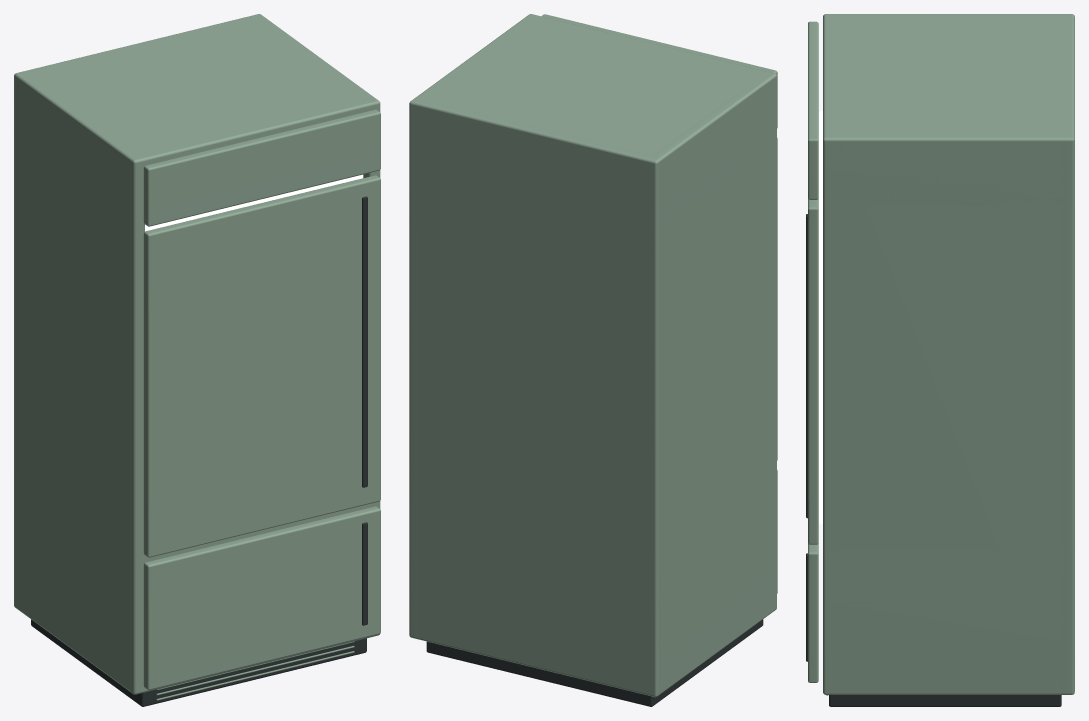
File: kitchenModernFridgeSage.glb
3 views of the same model, side by side, from view 1: azimuth 30°, elevation 25°; view 2: azimuth 150°, elevation 25°; view 3: azimuth 270°, elevation 25° (orthographic). The views are drawn at different scales.
Visible parts, largest first — view 1: Integrated fridge door, Built-in fridge housing side, Built-in fridge upper housing, Integrated freezer door, Built-in fridge freezer housing, Over-fridge cabinet door, Recessed fridge ventilation plinth, Built-in fridge housing back, Fridge door handle, Fridge interior LED, Integrated recessed door pull; view 2: Built-in fridge housing back, Built-in fridge housing side, Built-in fridge freezer housing, Built-in fridge upper housing, Recessed fridge ventilation plinth, Built-in fridge housing side.001, Over-fridge cabinet door; view 3: Built-in fridge housing side.001, Built-in fridge upper housing, Built-in fridge freezer housing, Built-in fridge housing back, Integrated fridge door, Recessed fridge ventilation plinth, Over-fridge cabinet door, Fridge door liner, Integrated freezer door, Fridge door handle.
Part boxes in pixels (<box>): Integrated fridge door: <box>143,175,380,557</box>; Built-in fridge housing side: <box>15,74,144,694</box>; Built-in fridge upper housing: <box>14,14,379,224</box>; Integrated freezer door: <box>143,506,380,690</box>; Built-in fridge freezer housing: <box>14,469,380,694</box>; Over-fridge cabinet door: <box>143,109,380,226</box>; Recessed fridge ventilation plinth: <box>31,619,366,706</box>; Built-in fridge housing back: <box>14,14,258,607</box>; Fridge door handle: <box>362,196,367,487</box>; Fridge interior LED: <box>148,178,353,230</box>; Integrated recessed door pull: <box>362,522,367,625</box>; Built-in fridge housing back: <box>409,98,662,696</box>; Built-in fridge housing side: <box>647,72,776,694</box>; Built-in fridge freezer housing: <box>410,471,776,697</box>; Built-in fridge upper housing: <box>410,14,776,221</box>; Recessed fridge ventilation plinth: <box>426,619,763,706</box>; Built-in fridge housing side.001: <box>410,47,484,638</box>; Over-fridge cabinet door: <box>541,14,777,128</box>; Built-in fridge housing side.001: <box>823,134,1073,694</box>; Built-in fridge upper housing: <box>823,14,1073,205</box>; Built-in fridge freezer housing: <box>823,550,1073,694</box>; Built-in fridge housing back: <box>1063,14,1074,694</box>; Integrated fridge door: <box>808,198,818,544</box>; Recessed fridge ventilation plinth: <box>829,695,1061,706</box>; Over-fridge cabinet door: <box>808,21,818,199</box>; Fridge door liner: <box>819,110,822,524</box>; Integrated freezer door: <box>808,543,818,682</box>; Fridge door handle: <box>806,214,807,518</box>.
Bounding box in the file's own units: 1.24 × 2.64 × 1.12.
